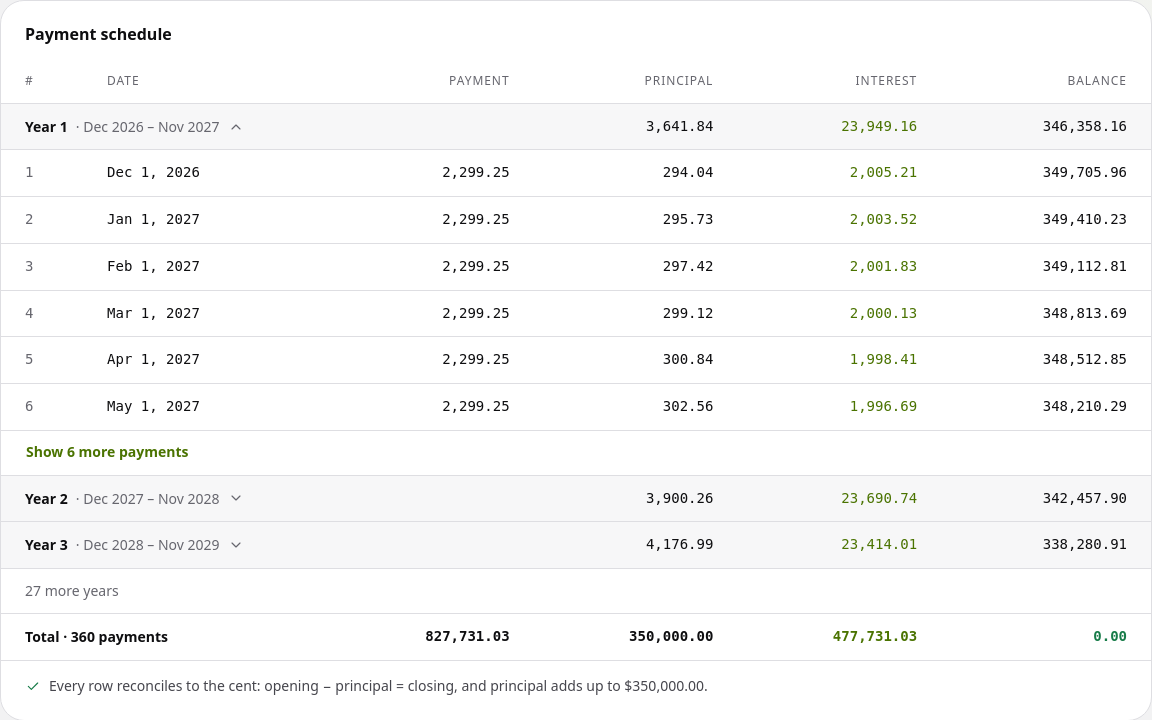
ScheduleCard — design scenario table › keeps the open years while invalid input blanks the results
What coordinates should you click on to do the following:
click the button "Year 2 · Dec 2027 – Nov 2028"
I would click on:
 (134, 498)
Its box is [25,476,244,520].
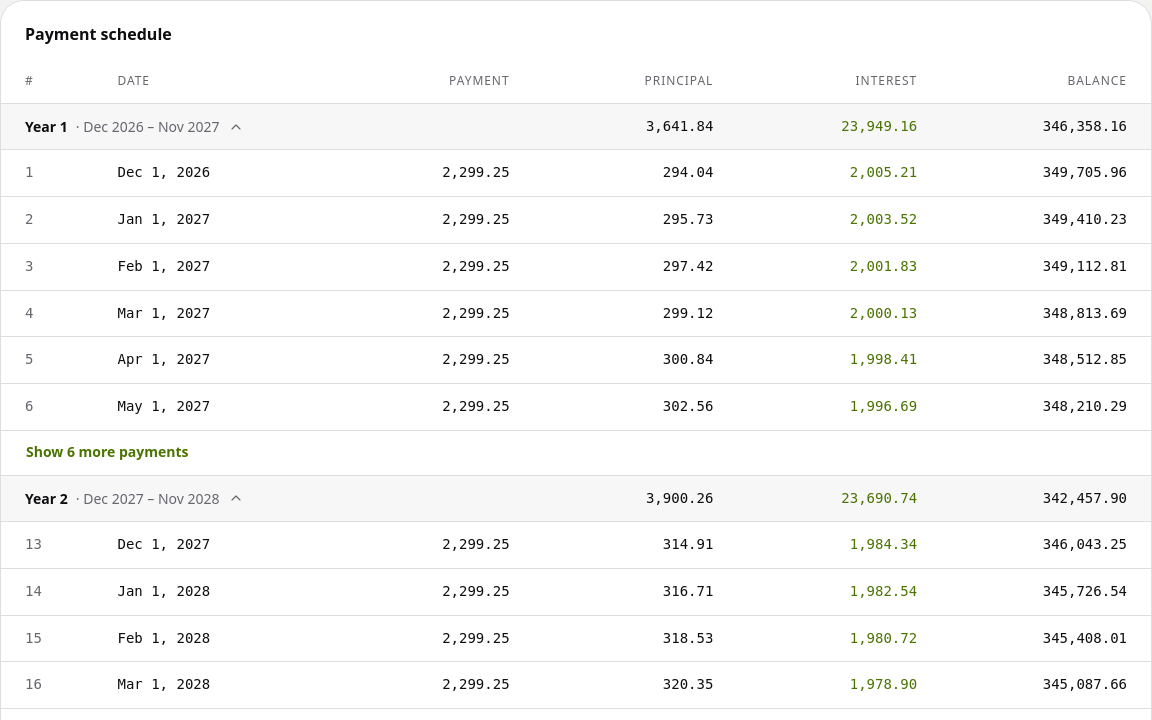
Now the button "Year 2 · Dec 2027 – Nov 2028" is expanded, box [25,476,244,520]
